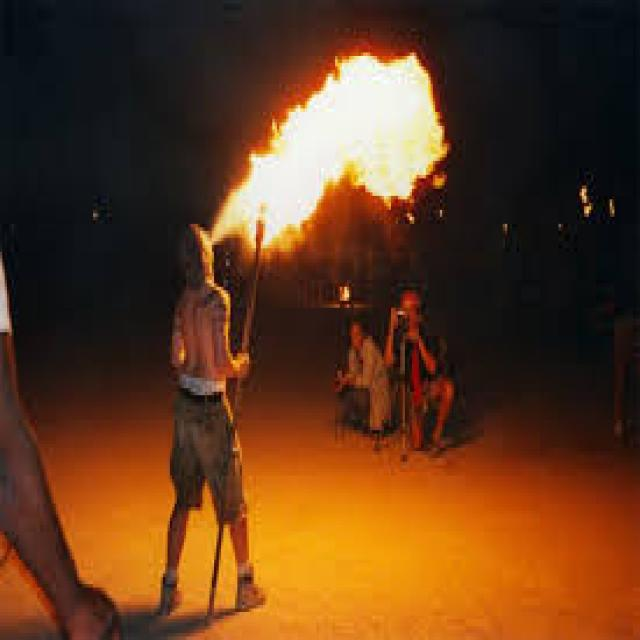fire: (292, 45, 449, 207), (211, 106, 314, 258)
